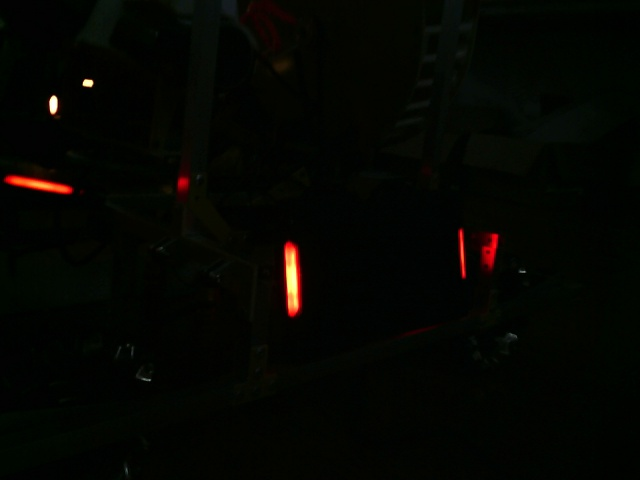lamp: (278, 241, 304, 320)
